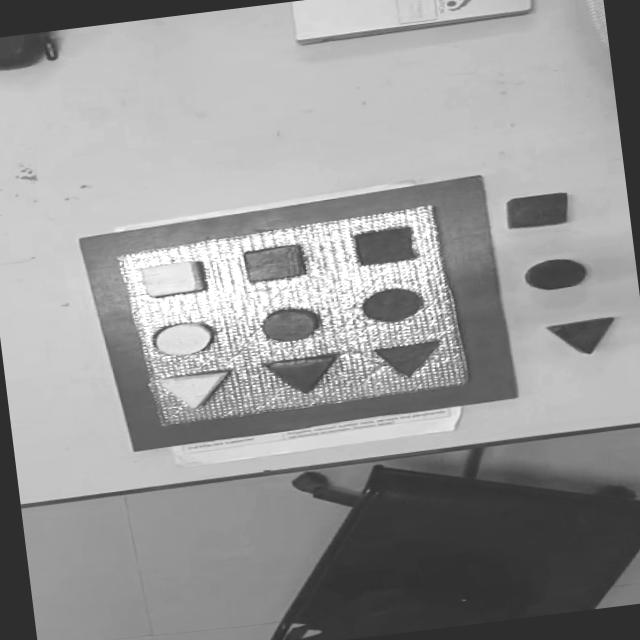bcircle: (522, 254, 590, 294)
bcube: (504, 190, 571, 230)
btriangle: (544, 316, 618, 360)
mtcircle: (356, 284, 426, 327)
mtcube: (350, 226, 418, 268)
mttriangle: (370, 338, 445, 382)
rcircle: (258, 305, 322, 346)
rcube: (240, 243, 306, 284)
rtriangle: (264, 354, 338, 398)
wb: (115, 202, 472, 430)
ycircle: (148, 319, 216, 360)
ycube: (137, 258, 208, 299)
ytriangle: (154, 368, 234, 414)
